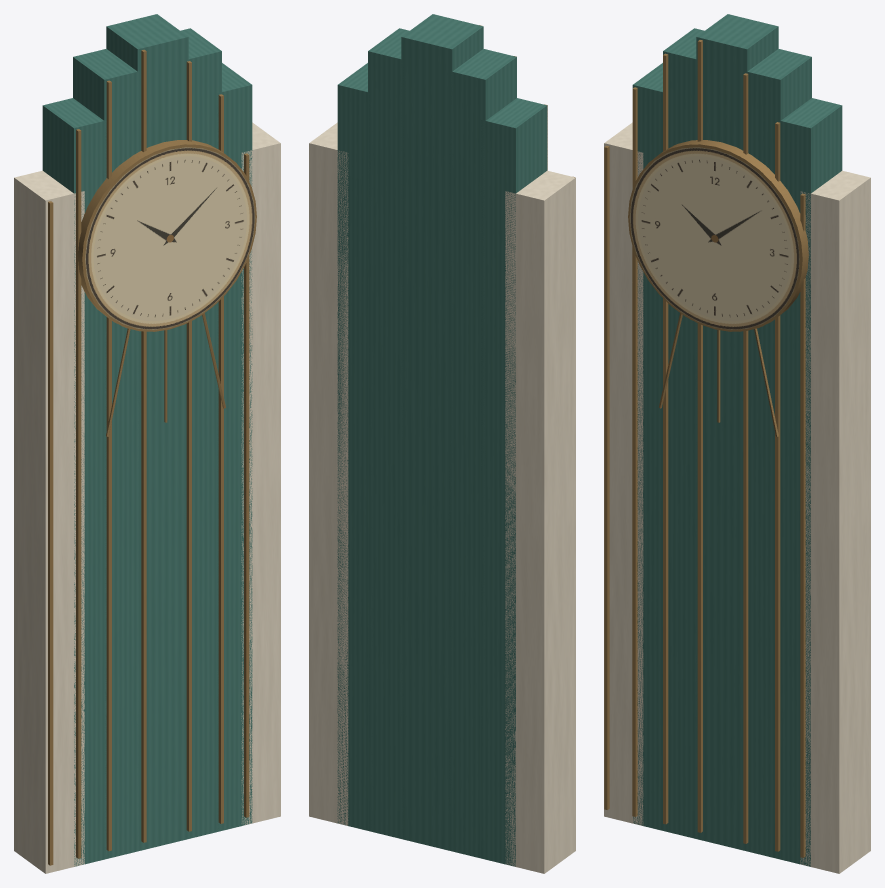
File: ClockFin.fbx
3 renders of one model, left to right at view 1: azimuth 30°, elevation 25°; view 2: azimuth 150°, elevation 25°; view 3: azimuth 330°, elevation 25°, orthographic.
Visible parts, largest first — view 1: ClockFin Close, ClockFin Street; view 2: ClockFin Close; view 3: ClockFin Close, ClockFin Street.
Part boxes in pixels (x1,y1,x2,y2): ClockFin Close: (14,14,280,873); ClockFin Street: (79,140,250,331); ClockFin Close: (309,14,575,873); ClockFin Close: (604,14,870,873); ClockFin Street: (629,140,807,331).
Bounding box in the file's own units: 264 × 860 × 74.6.
